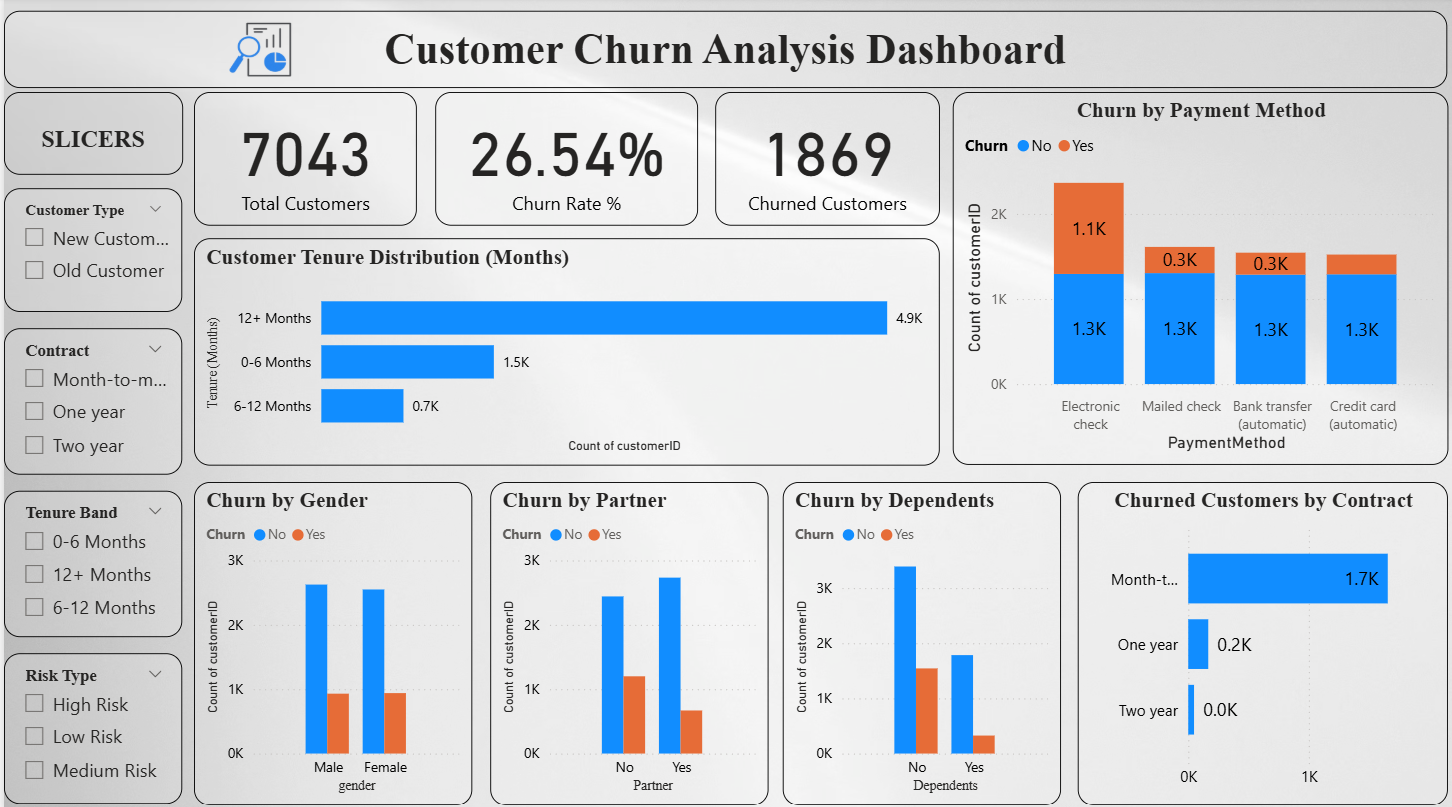

The page's visual inventory and layout, read from the dashboard file:
{"tool":"powerbi","page":{"name":"Customer Churn Analysis Dashboard","canvas":[1280,720],"ordinal":0},"visuals":[{"type":"textbox","box":[0,12.1,1269.8,67.8],"z":0},{"type":"card","fields":{"Values":["Table.Total Customers"]},"box":[167,83.5,196.1,117.4],"z":1000},{"type":"card","fields":{"Values":["Table.Churn Rate %"]},"box":[378.9,83.5,231.2,117.4],"z":2000},{"type":"card","fields":{"Values":["Table.Churned Customers"]},"box":[625.8,83.5,197.3,117.4],"z":3000},{"type":"columnChart","title":"Churn by Payment Method","fields":{"Category":["Telco_Customer_Churn_Dataset  (2).PaymentMethod"],"Series":["Telco_Customer_Churn_Dataset  (2).Churn"],"Y":["CountNonNull(Telco_Customer_Churn_Dataset  (2).customerID)"]},"box":[834,83.5,435.8,328],"z":4000},{"type":"barChart","fields":{"Category":["Telco_Customer_Churn_Dataset  (2).Contract"],"Y":["Table.Churned Customers"]},"box":[944.2,426.1,325.6,284.5],"z":5000},{"type":"slicer","fields":{"Values":["Telco_Customer_Churn_Dataset  (2).Contract"]},"box":[0,291.4,157.1,128.6],"z":6000},{"type":"slicer","fields":{"Values":["Telco_Customer_Churn_Dataset  (2).Tenure Band"]},"box":[0,434.3,157.1,128.6],"z":7000},{"type":"slicer","fields":{"Values":["Telco_Customer_Churn_Dataset  (2).Customer Type"]},"box":[0,168.6,157.1,108.6],"z":8000},{"type":"slicer","fields":{"Values":["Telco_Customer_Churn_Dataset  (2).Risk Type"]},"box":[0,577.1,157.1,132.9],"z":9000},{"type":"textbox","box":[0,83.5,157.4,72.6],"z":10000},{"type":"image","box":[185.2,8.5,79.9,75.1],"z":11000},{"type":"barChart","title":"Customer Tenure Distribution (Months)","fields":{"Category":["Telco_Customer_Churn_Dataset  (2).Tenure Band"],"Y":["CountNonNull(Telco_Customer_Churn_Dataset  (2).customerID)"]},"box":[167,211.8,656.1,199.7],"z":12000},{"type":"clusteredColumnChart","title":"Churn by Gender","fields":{"Category":["Telco_Customer_Churn_Dataset  (2).gender"],"Series":["Telco_Customer_Churn_Dataset  (2).Churn"],"Y":["CountNonNull(Telco_Customer_Churn_Dataset  (2).customerID)"]},"box":[167,426.1,244.5,284.5],"z":13000},{"type":"clusteredColumnChart","title":"Churn by Partner","fields":{"Category":["Telco_Customer_Churn_Dataset  (2).Partner"],"Series":["Telco_Customer_Churn_Dataset  (2).Churn"],"Y":["CountNonNull(Telco_Customer_Churn_Dataset  (2).customerID)"]},"box":[427.3,426.1,244.5,284.5],"z":14000},{"type":"clusteredColumnChart","title":"Churn by Dependents","fields":{"Category":["Telco_Customer_Churn_Dataset  (2).Dependents"],"Series":["Telco_Customer_Churn_Dataset  (2).Churn"],"Y":["CountNonNull(Telco_Customer_Churn_Dataset  (2).customerID)"]},"box":[685.1,426.1,244.5,284.5],"z":15000}]}

Visuals, with their boxes in screenshot pixels (x1, y1, x2, y2), scaled from the page's 1280x720 canvas onto the 1452x807 screenshot:
textbox: (x1=0, y1=14, x2=1440, y2=90)
card - Table.Total Customers: (x1=189, y1=94, x2=412, y2=225)
card - Table.Churn Rate %: (x1=430, y1=94, x2=692, y2=225)
card - Table.Churned Customers: (x1=710, y1=94, x2=934, y2=225)
"Churn by Payment Method" columnChart: (x1=946, y1=94, x2=1440, y2=461)
barChart - Telco_Customer_Churn_Dataset  (2).Contract x Table.Churned Customers: (x1=1071, y1=478, x2=1440, y2=796)
slicer - Telco_Customer_Churn_Dataset  (2).Contract: (x1=0, y1=327, x2=178, y2=471)
slicer - Telco_Customer_Churn_Dataset  (2).Tenure Band: (x1=0, y1=487, x2=178, y2=631)
slicer - Telco_Customer_Churn_Dataset  (2).Customer Type: (x1=0, y1=189, x2=178, y2=311)
slicer - Telco_Customer_Churn_Dataset  (2).Risk Type: (x1=0, y1=647, x2=178, y2=796)
textbox: (x1=0, y1=94, x2=179, y2=175)
image: (x1=210, y1=10, x2=301, y2=94)
"Customer Tenure Distribution (Months)" barChart: (x1=189, y1=237, x2=934, y2=461)
"Churn by Gender" clusteredColumnChart: (x1=189, y1=478, x2=467, y2=796)
"Churn by Partner" clusteredColumnChart: (x1=485, y1=478, x2=762, y2=796)
"Churn by Dependents" clusteredColumnChart: (x1=777, y1=478, x2=1055, y2=796)
